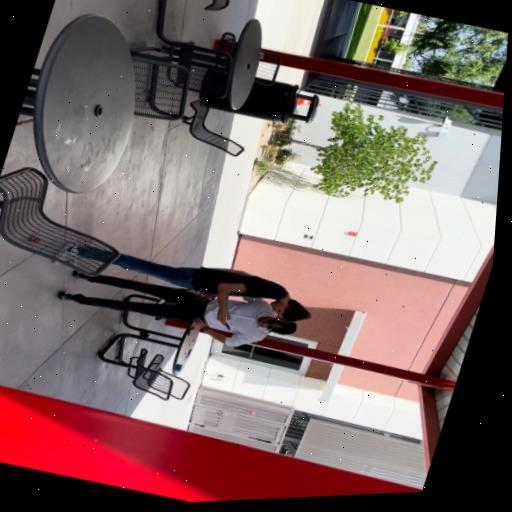target6: (303, 233, 313, 241)
